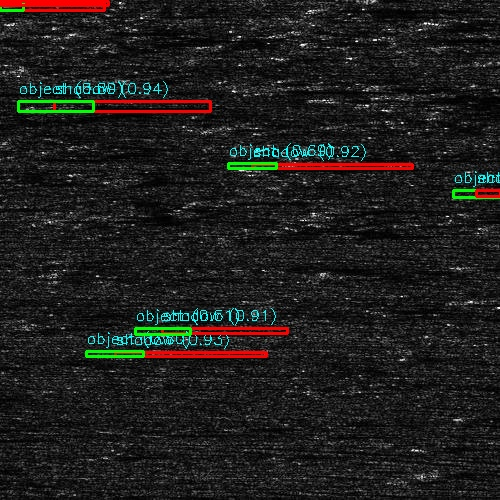rock: (25, 102, 88, 111), (89, 351, 142, 356), (453, 191, 500, 196), (219, 164, 272, 167), (0, 1, 12, 10), (312, 97, 343, 100)
shadow: (57, 102, 212, 111), (0, 1, 102, 10), (116, 351, 266, 356), (246, 164, 408, 167), (0, 357, 29, 372), (0, 90, 63, 93), (328, 97, 370, 100), (165, 331, 281, 332), (490, 191, 500, 196)
